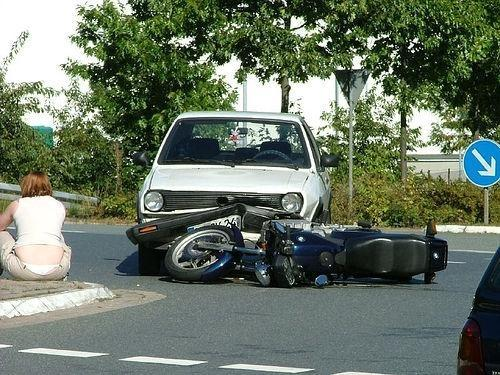car: (137, 117, 320, 224), (456, 243, 500, 375)
motorcycle: (163, 218, 448, 289)
